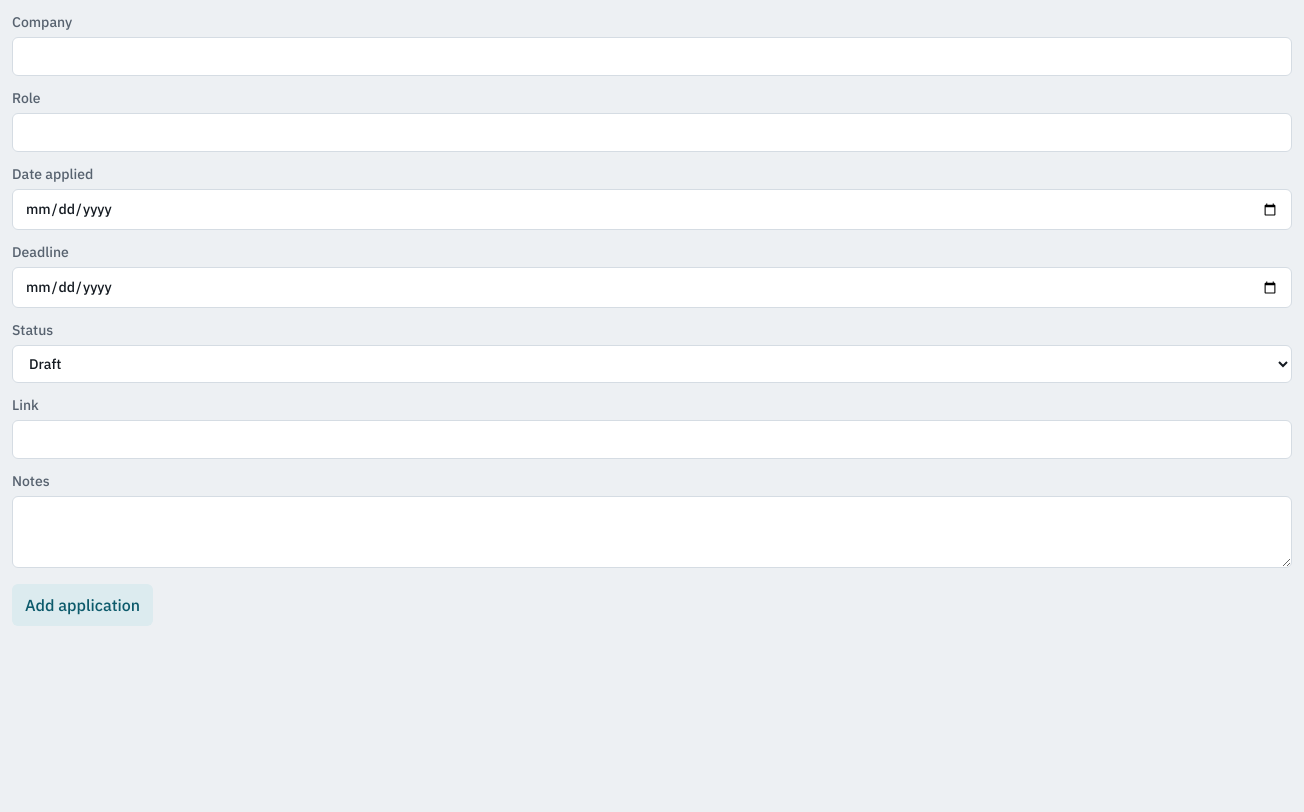
setting a date on a draft switches its status to applied
Type "2026-01-15" into the date field labelled "Date applied" at coordinates (652, 210), box top-left (12, 189), bottom-right (1292, 230)
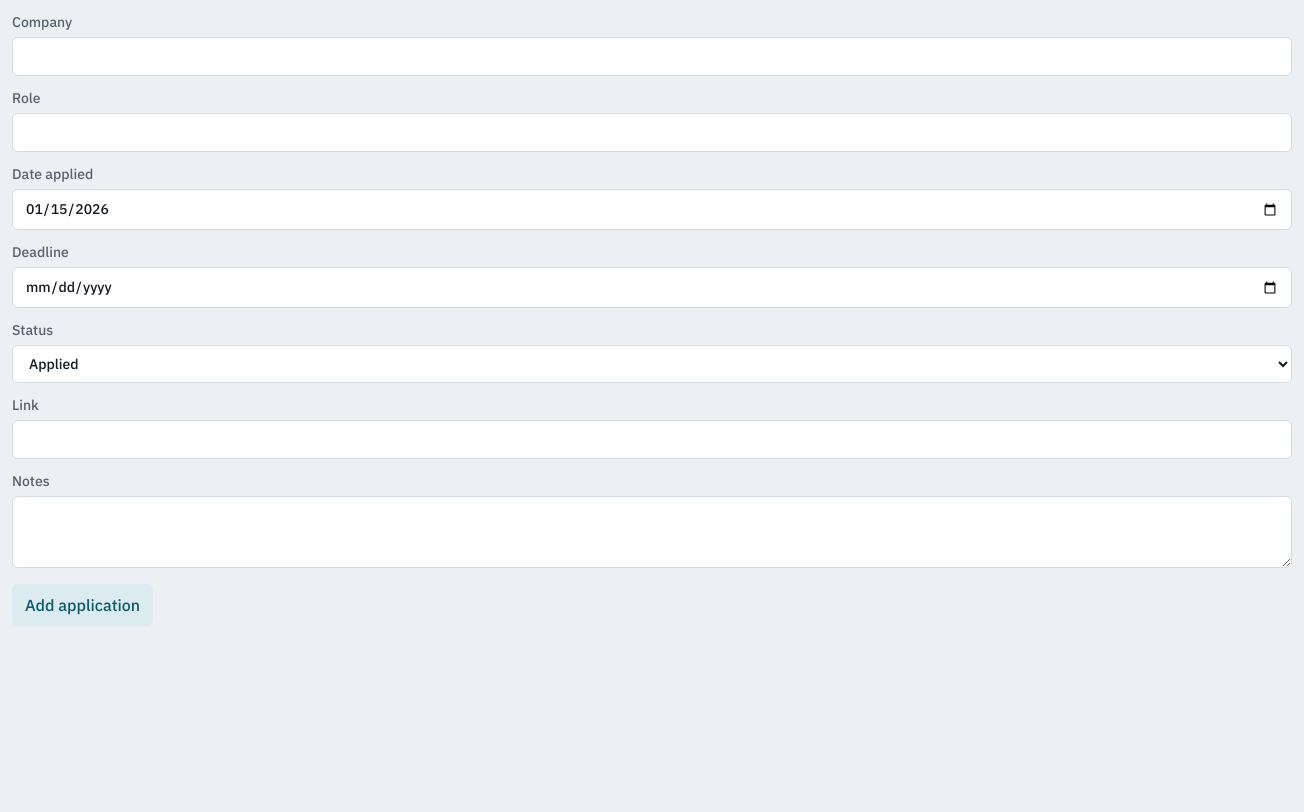
Expected: the dropdown labelled "Status" shows "Applied", top-left (12, 345), bottom-right (1292, 383)
